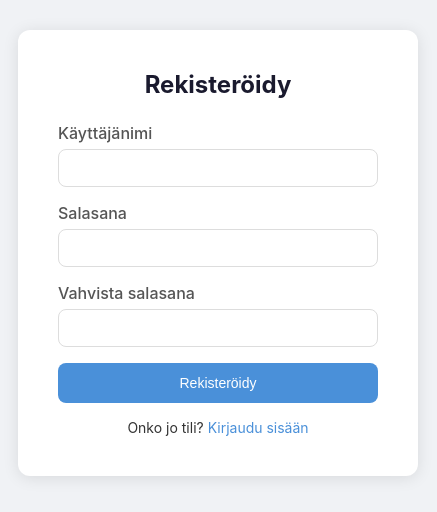
Scenario: Register › näyttää palvelimen virheilmoituksen
In the field: (218, 168) [58, 149, 378, 187], type "existing"
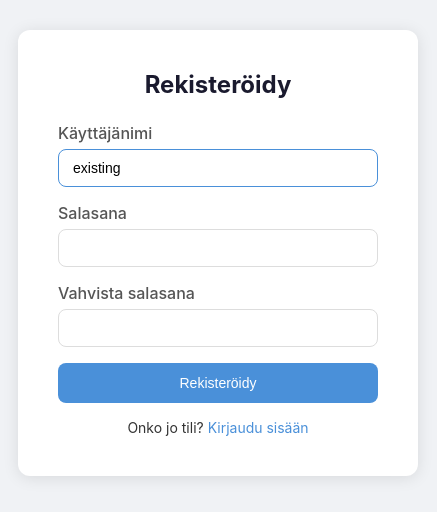
In the 1st password field: (218, 248) [58, 229, 378, 267], type "password123"
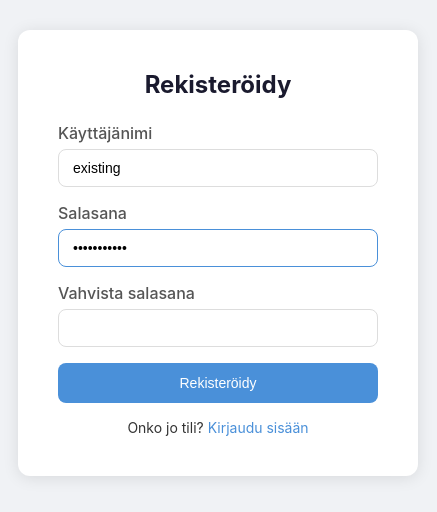
In the password field below "Vahvista salasana": (218, 328) [58, 309, 378, 347], type "password123"
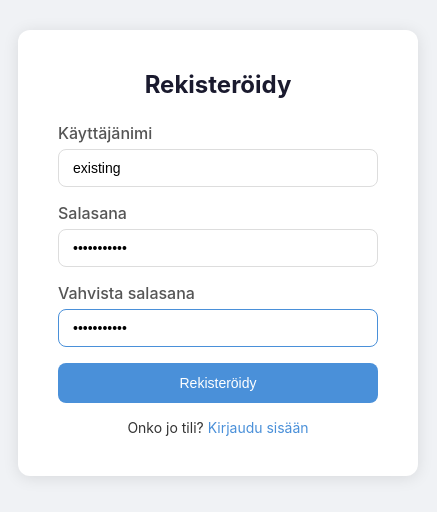
Click the button "Rekisteröidy": (218, 383) [58, 363, 378, 403]
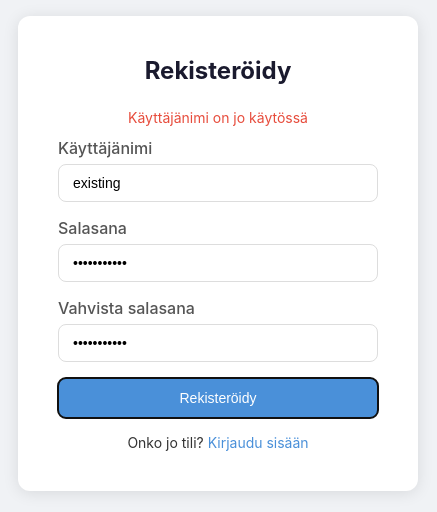
Expected: the text "Käyttäjänimi on jo käytössä" is shown, [128, 108, 308, 126]
